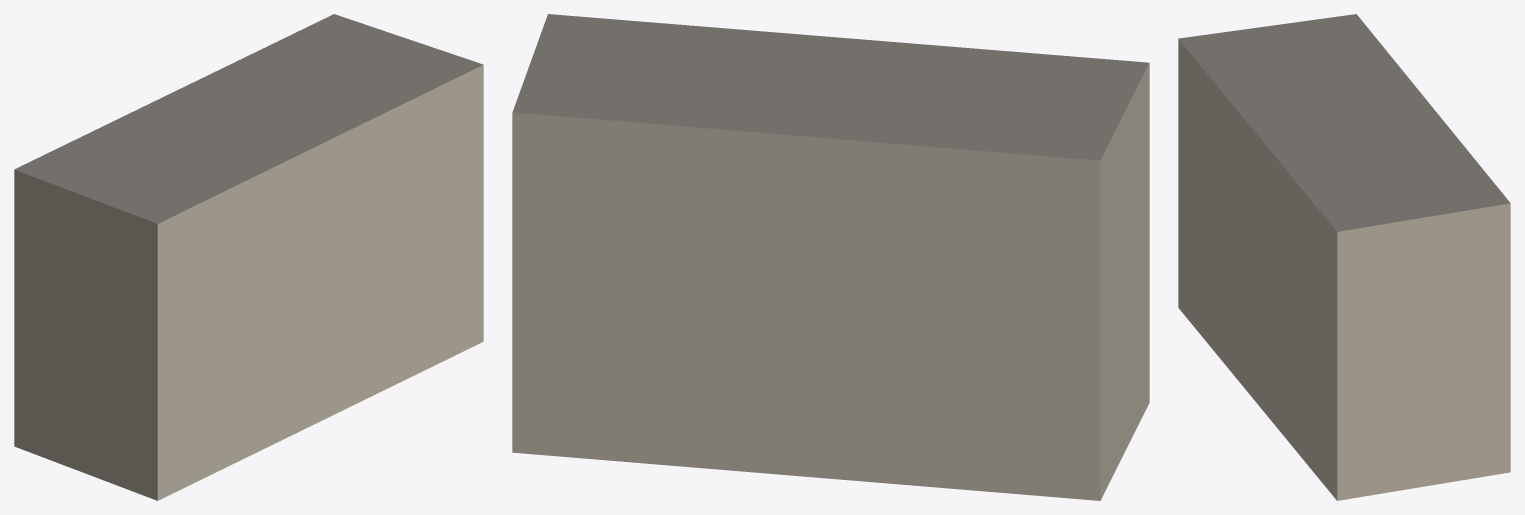
The picture shows the model from 3 angles, left to right: view 1: azimuth 30°, elevation 25°; view 2: azimuth 150°, elevation 25°; view 3: azimuth 270°, elevation 25°; orthographic projection. The views are drawn at different scales.
Visible parts, largest first — view 1: HP-w505643410; view 2: HP-w505643410; view 3: HP-w505643410.
Part boxes in pixels (x1,y1,x2,y2): HP-w505643410: [14, 14, 483, 500]; HP-w505643410: [512, 14, 1149, 500]; HP-w505643410: [1178, 14, 1510, 500].
Size of the model in its own units: 31.26 by 18 by 20.16.
